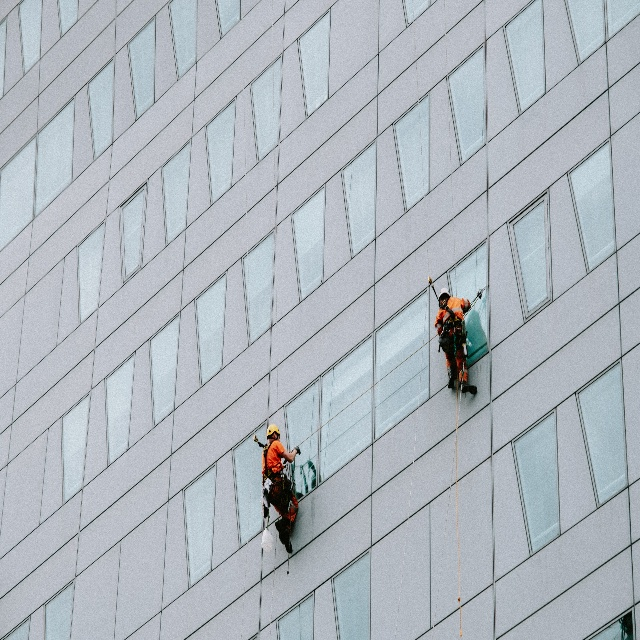Guantes: (293, 446, 301, 455)
